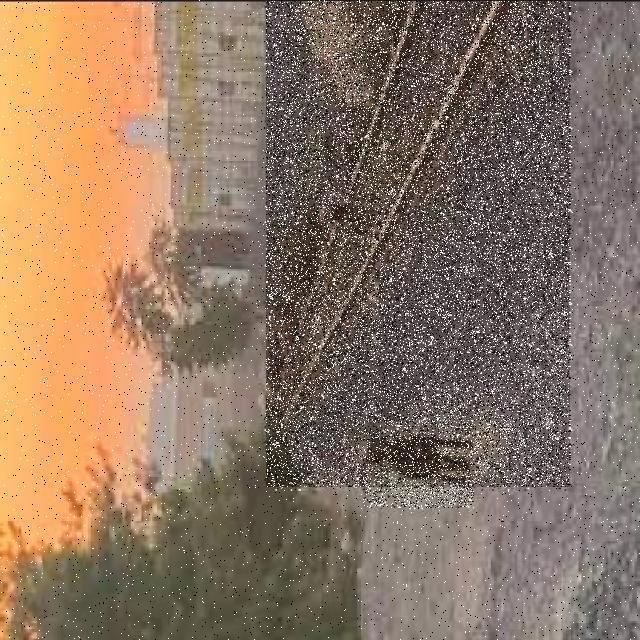rail: (267, 3, 571, 488)
